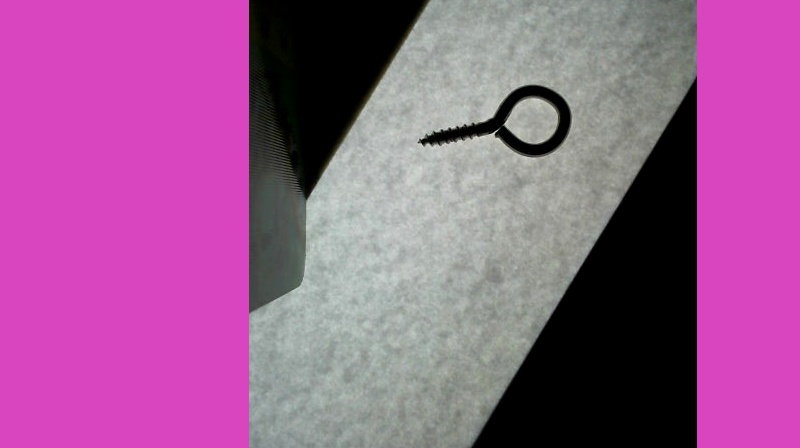O001: (413, 79, 573, 160)
